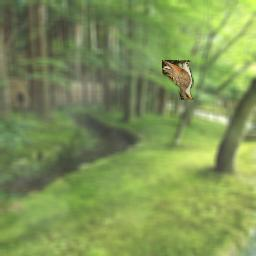Cuckoo: (162, 60, 194, 100)
